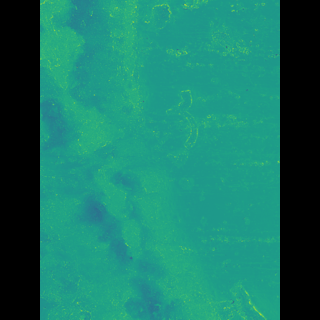Loch: (71, 0, 203, 320)
